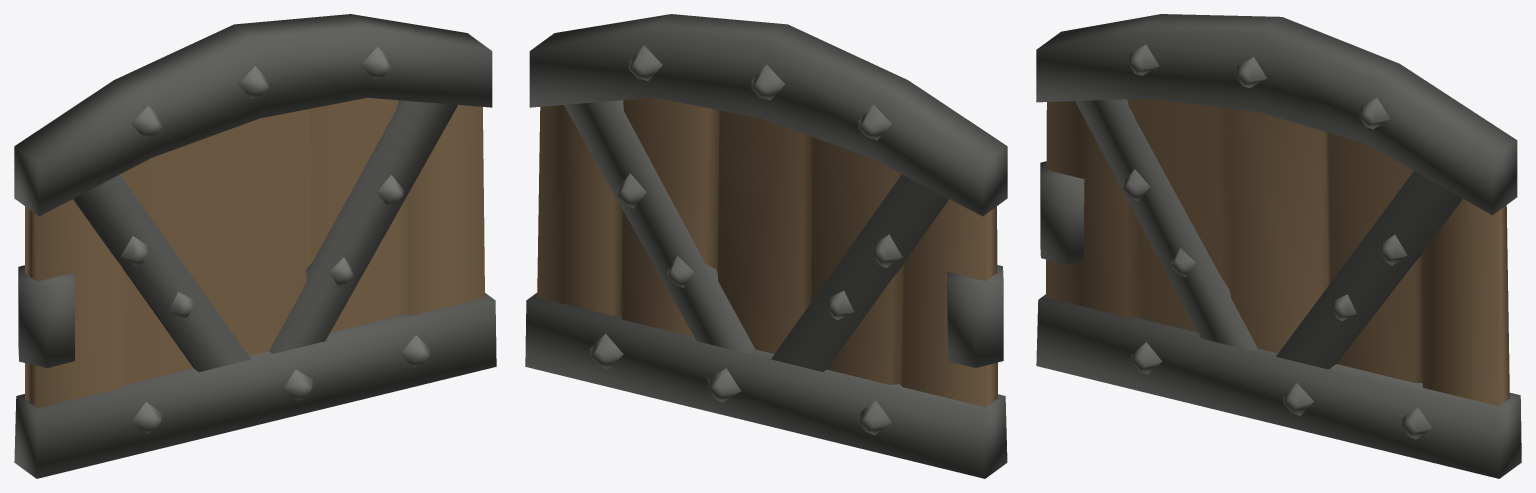
File: rpgpp_ag_door_02_top.fbx
3 renders of one model, left to right at view 1: azimuth 30°, elevation 25°; view 2: azimuth 150°, elevation 25°; view 3: azimuth 330°, elevation 25°, orthographic.
Parts seen in each view (by area): view 1: rpgpp_ag_door_02_top; view 2: rpgpp_ag_door_02_top; view 3: rpgpp_ag_door_02_top.
Part boxes in pixels (<box>): rpgpp_ag_door_02_top: <box>14,14,496,478</box>; rpgpp_ag_door_02_top: <box>525,14,1007,478</box>; rpgpp_ag_door_02_top: <box>1036,14,1521,478</box>.
Bounding box in the file's own units: 1.44 × 1.13 × 0.231.
